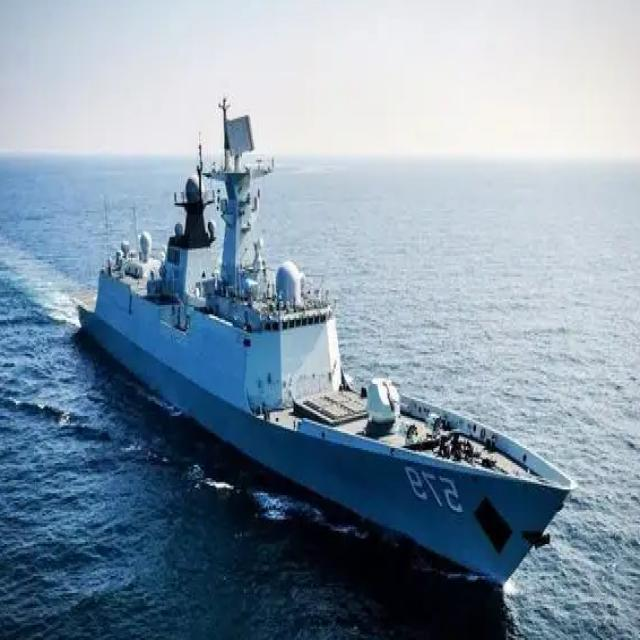navalvessels: (57, 83, 571, 590)
